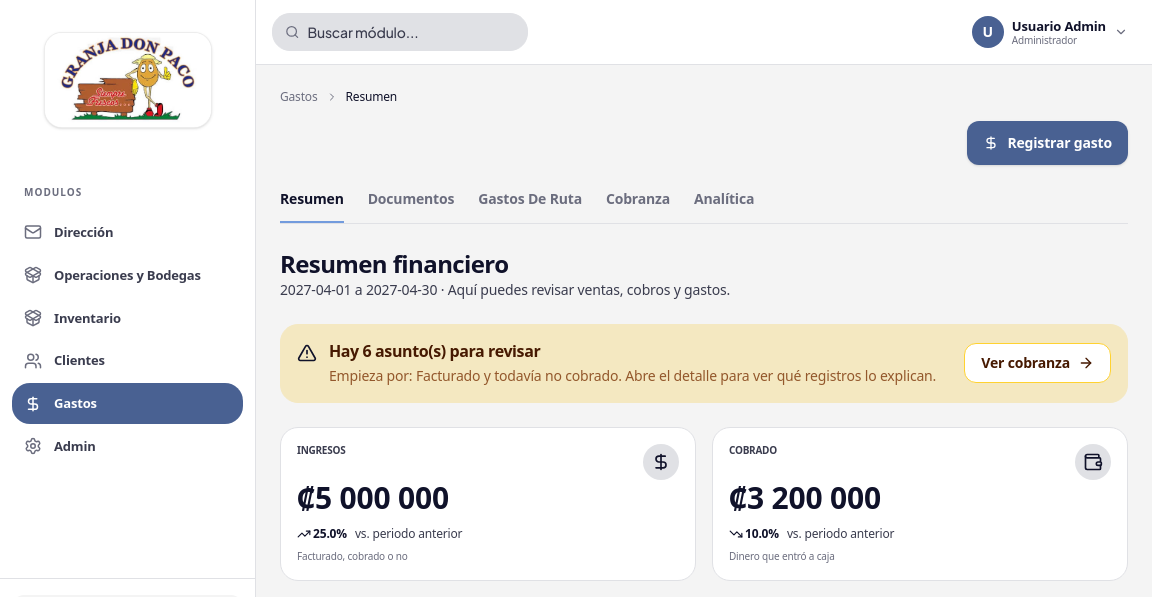
Test: lo que aportaba el Centro de Mando vive en Resumen › Resumen muestra la columna Salud del negocio con la operación de hoy
Step 1. Click the button "Gastos" below "Modulos" → (128, 404), box [12,383,243,424]
(page scrolled)
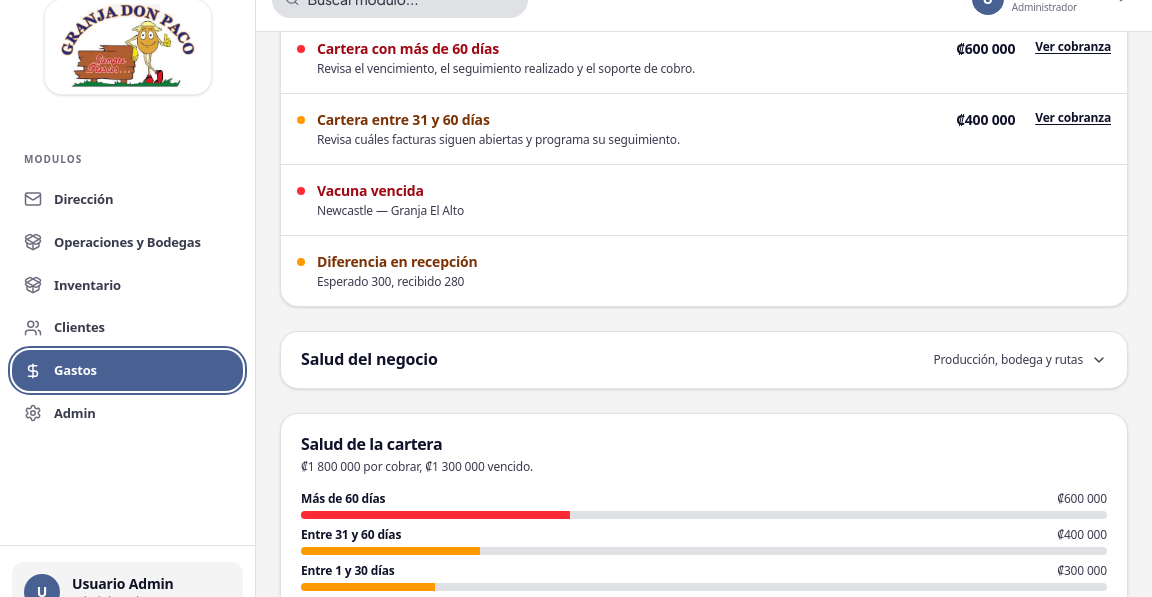
Expected: the element with test id "finanzas-salud-negocio" shows "Salud del negocio", [301,348,438,370]
